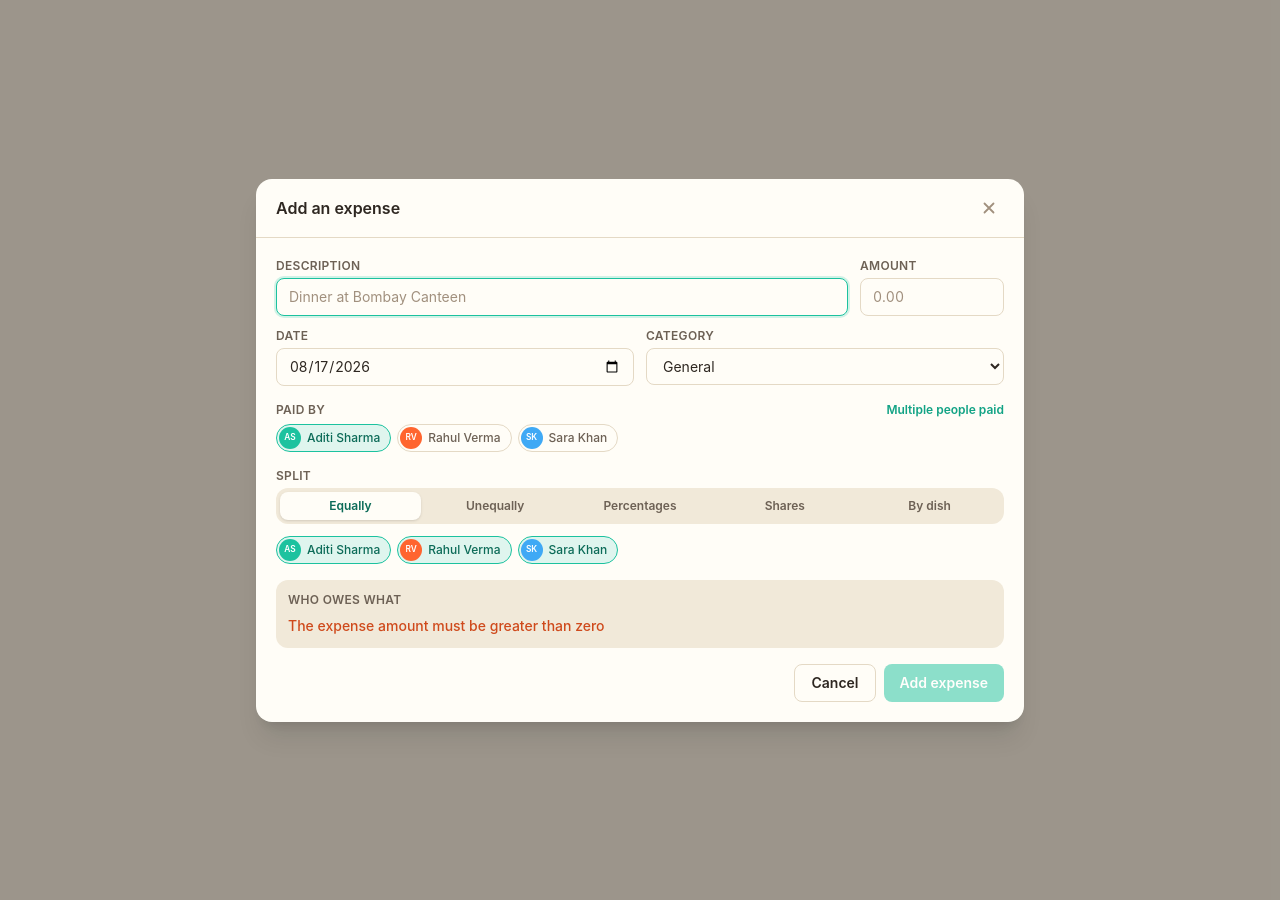
Test: ExpenseModal › lets two people pay different amounts
Step 1. Type "Cab" into the field labelled "Description" → (562, 296), box top-left (276, 278), bottom-right (848, 316)
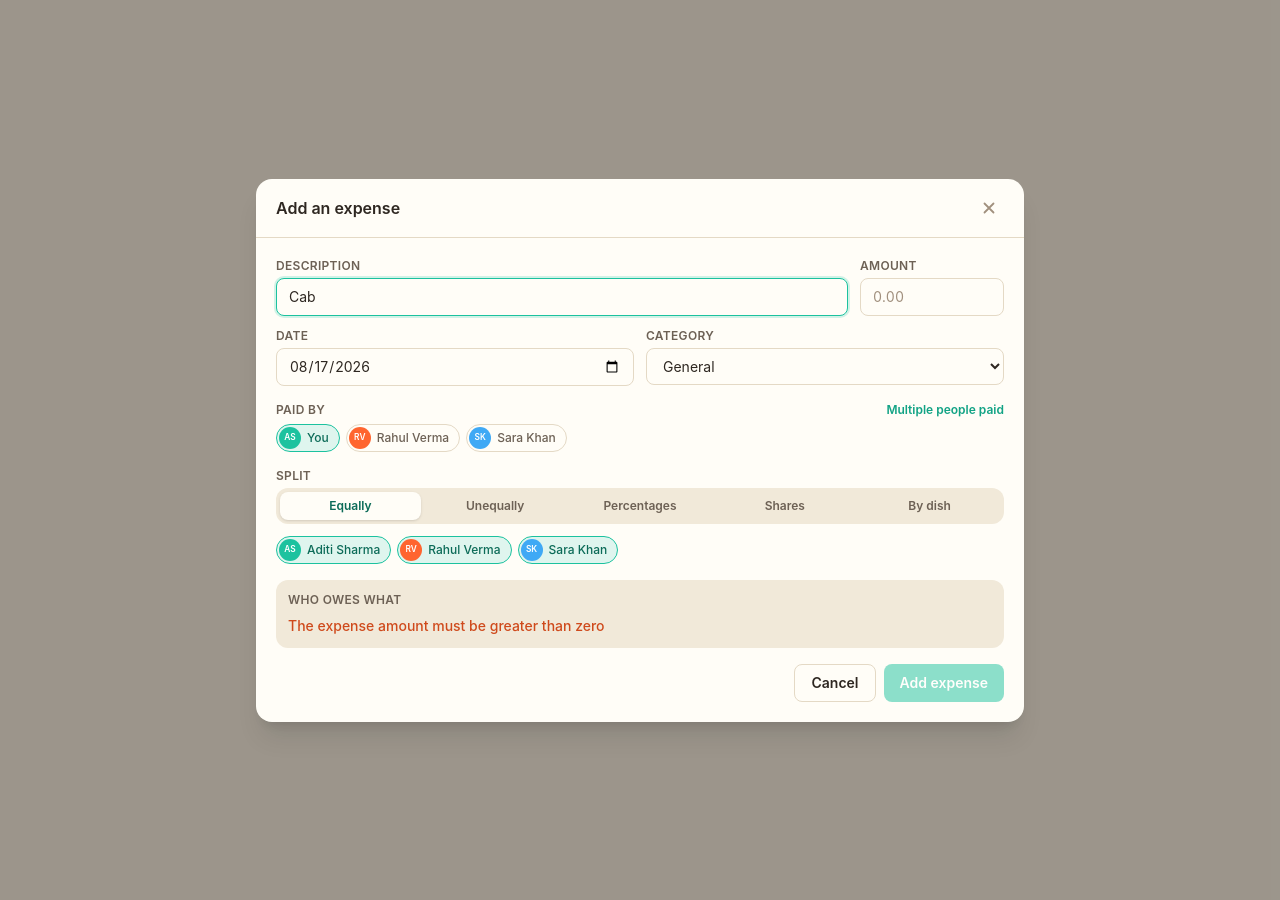
Step 2. Type "210" into the field labelled "Amount" → (932, 296), box top-left (860, 278), bottom-right (1004, 316)
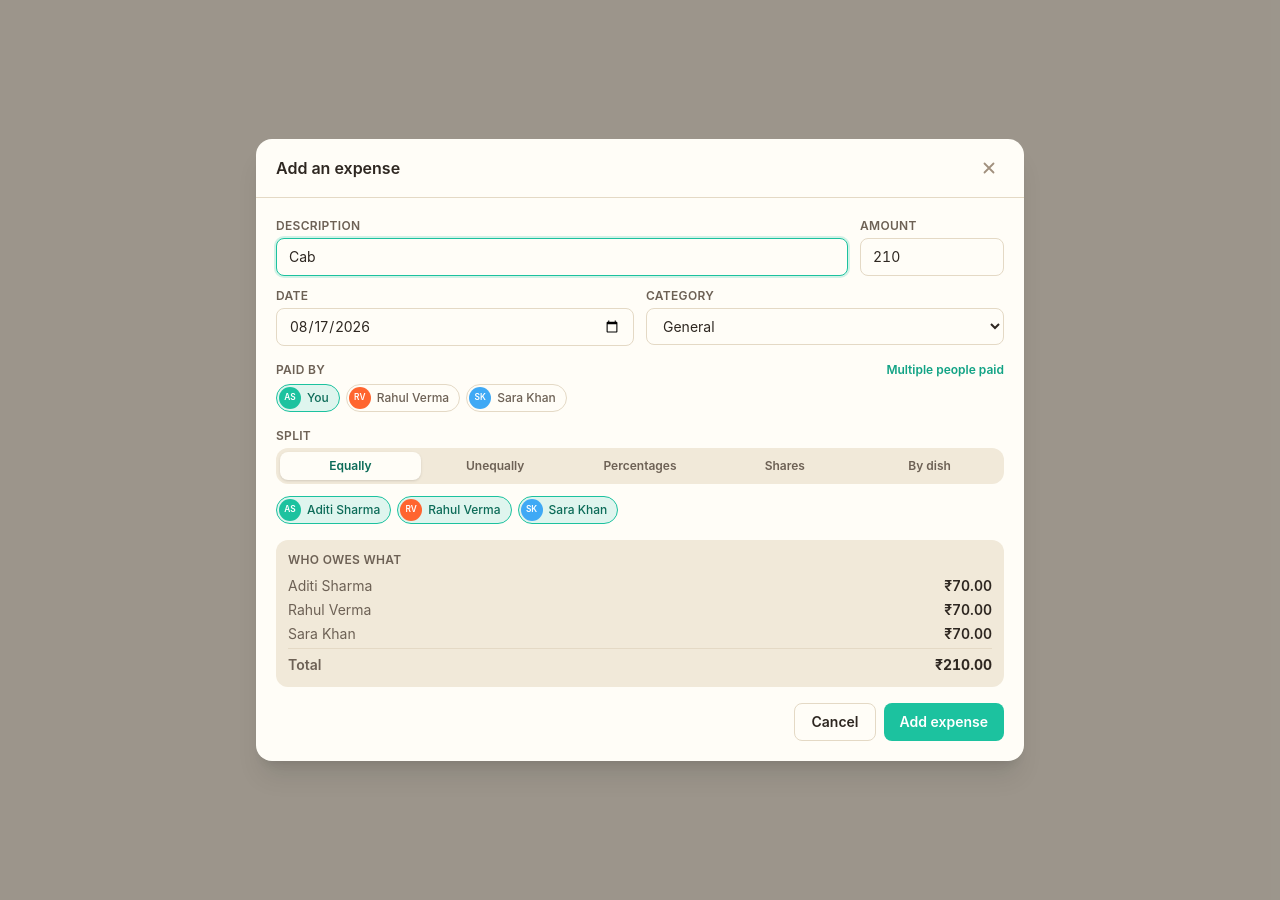
Step 3. Click the button "Multiple people paid" → (945, 370), box top-left (886, 362), bottom-right (1004, 378)
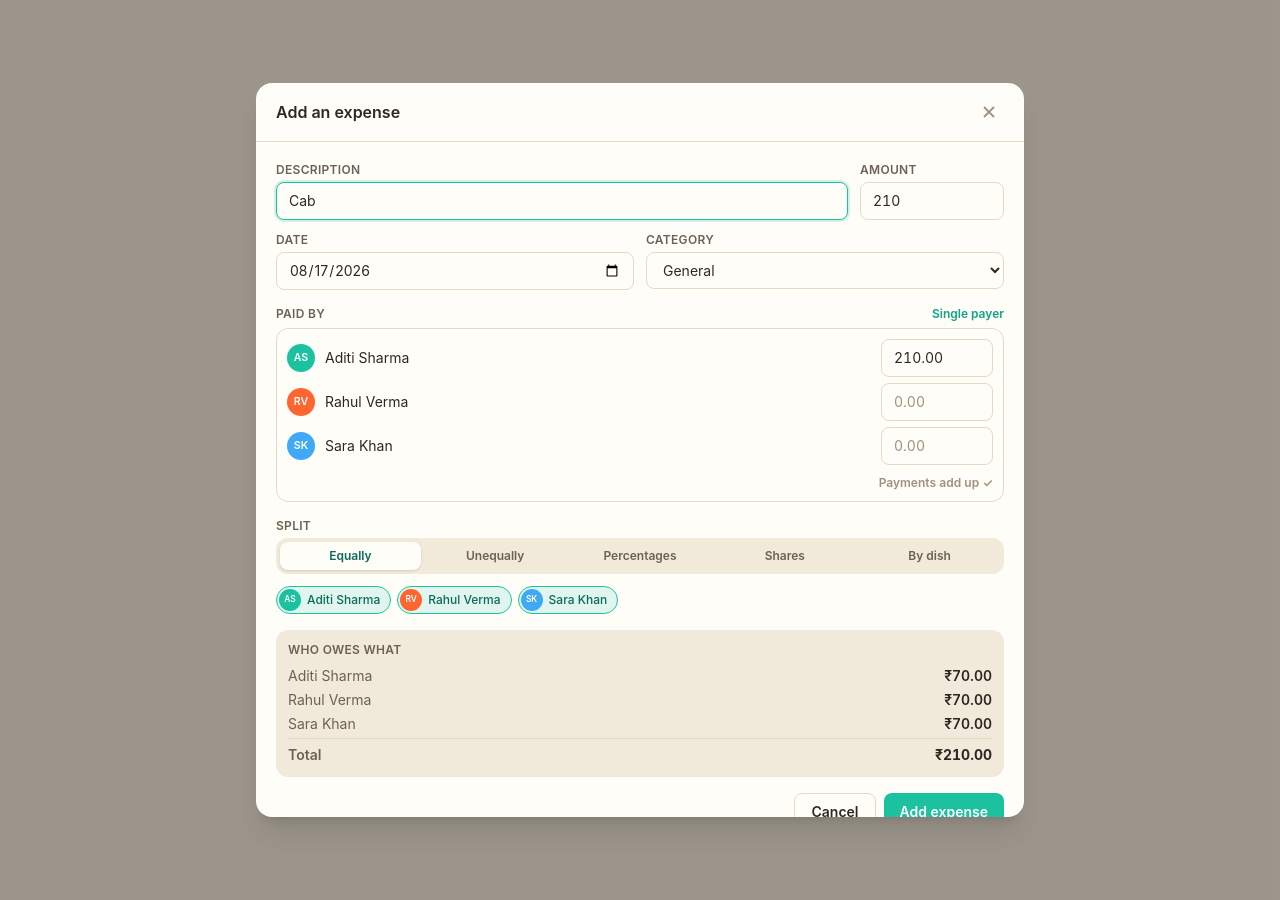
Step 4. Replace the text in the field with placeholder "0.00" with "150" → (937, 358), box top-left (881, 339), bottom-right (993, 377)
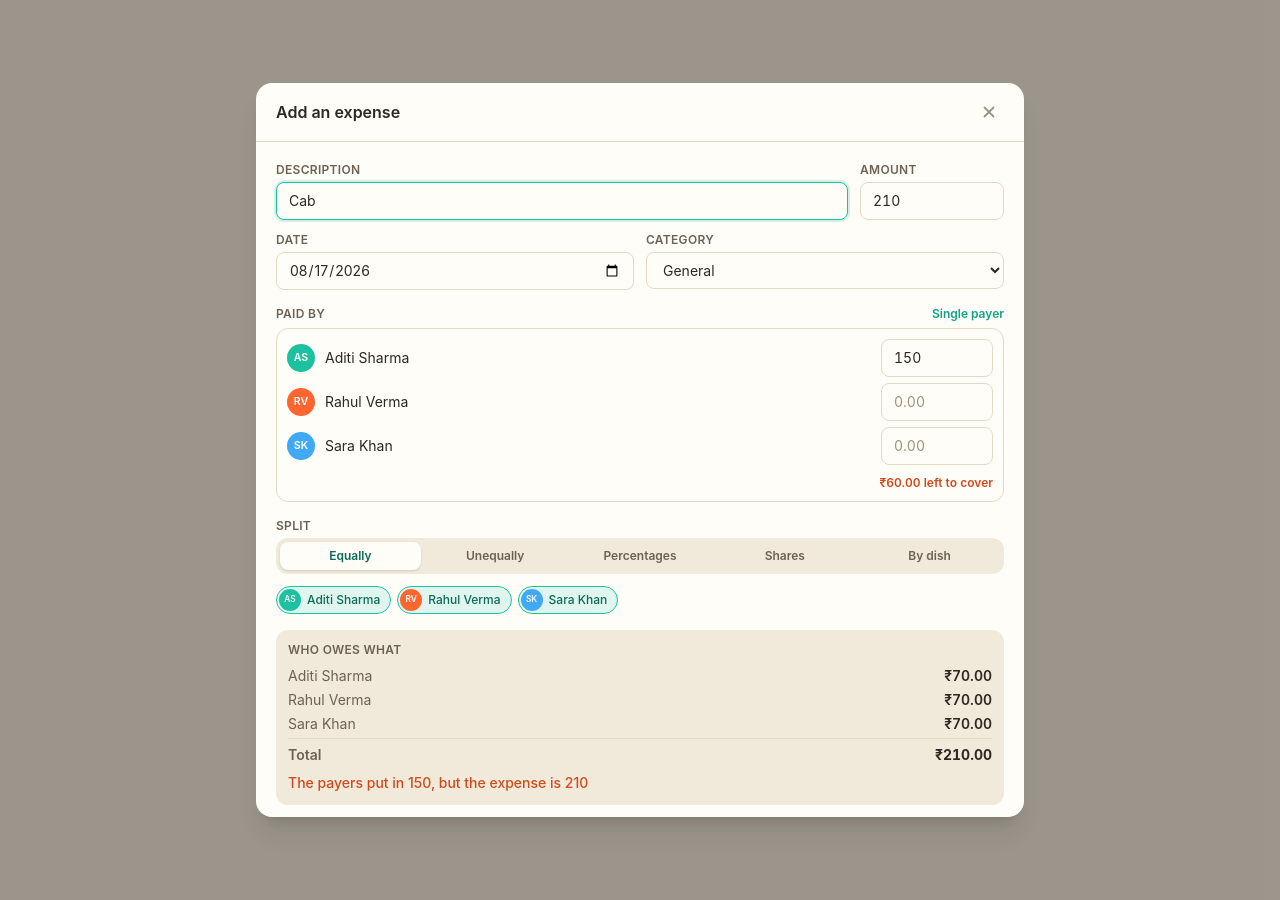
Step 5. Type "60" into the 1st field with placeholder "0.00" → (937, 402), box top-left (881, 383), bottom-right (993, 421)
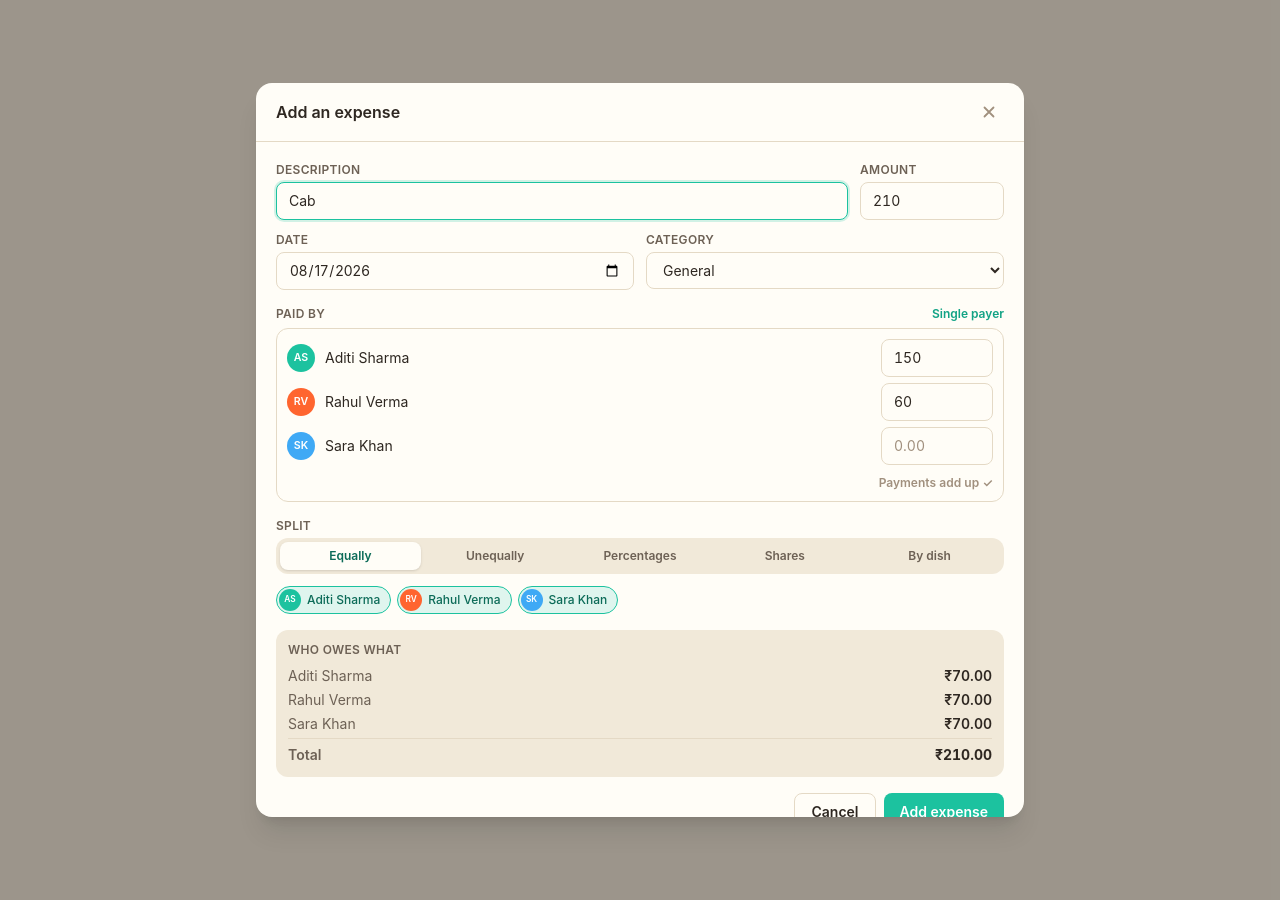
Expected: the text "Payments add up ✓" is shown, top-left (879, 475), bottom-right (993, 490)
Expected: the button "Add expense" is enabled, top-left (884, 793), bottom-right (1004, 817)
